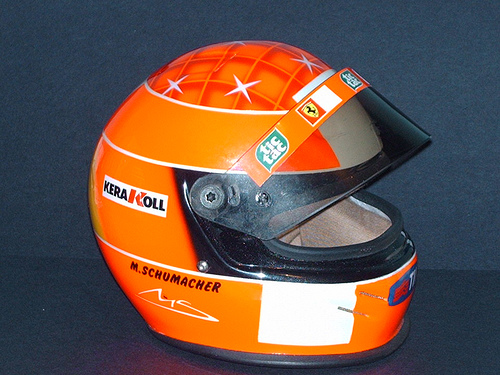helmet: (79, 61, 443, 333)
